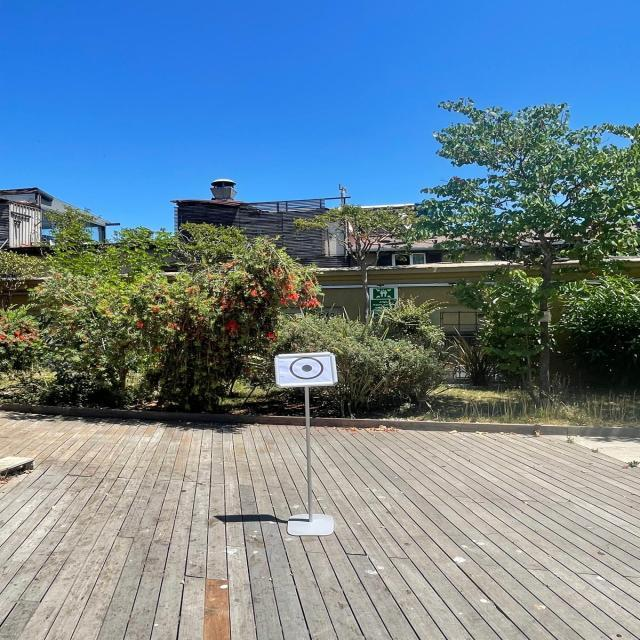Target: (266, 341, 348, 395)
inner: (299, 359, 314, 377)
